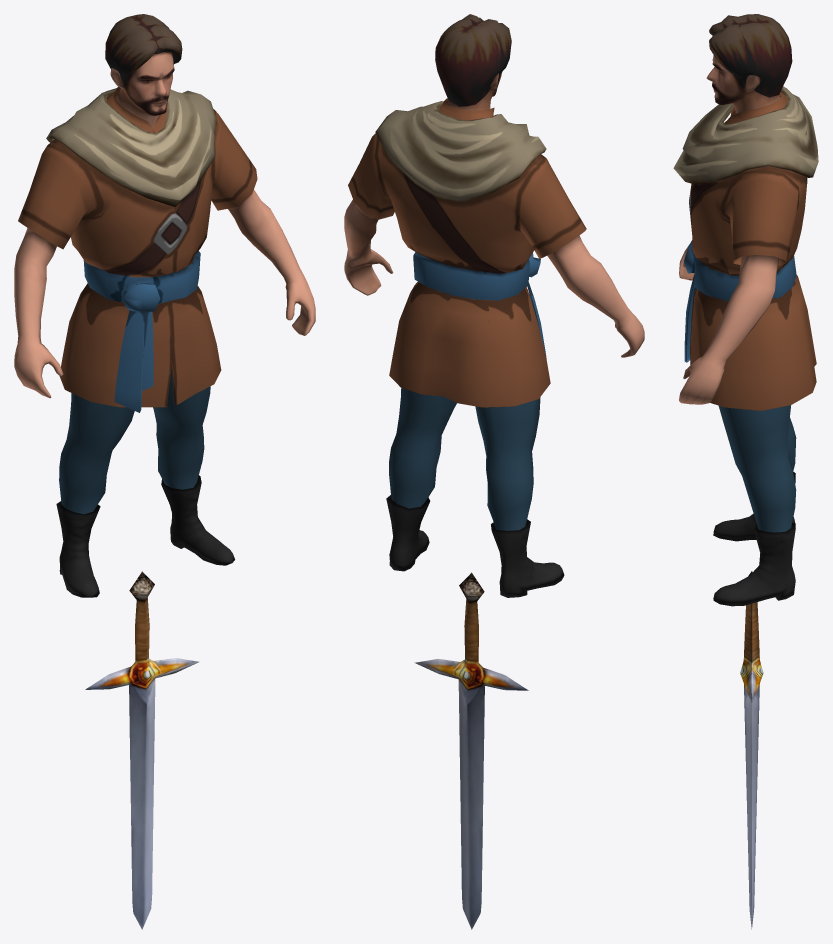
The model's file is H_dzb_model.fbx.
The picture shows the model from 3 angles, left to right: view 1: azimuth 30°, elevation 25°; view 2: azimuth 150°, elevation 25°; view 3: azimuth 270°, elevation 25°; orthographic projection.
Visible parts, largest first — view 1: H_dzb; view 2: H_dzb; view 3: H_dzb.
Boxes of the visible parts, x1,y1,x2,y2 form: H_dzb: (14, 14, 315, 929); H_dzb: (344, 14, 644, 929); H_dzb: (673, 14, 818, 929).
Bounding box in the file's own units: 105 × 312 × 45.03.
Materials: 1 (1 with a texture image).
